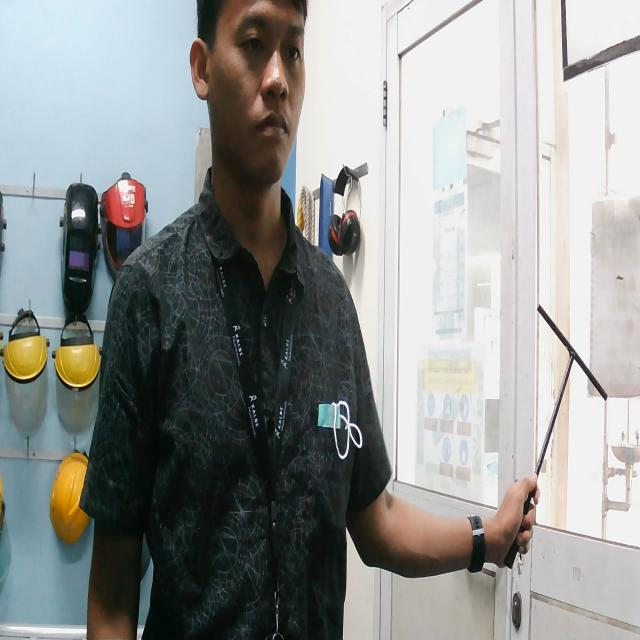kunci_t: (497, 289, 614, 580)
